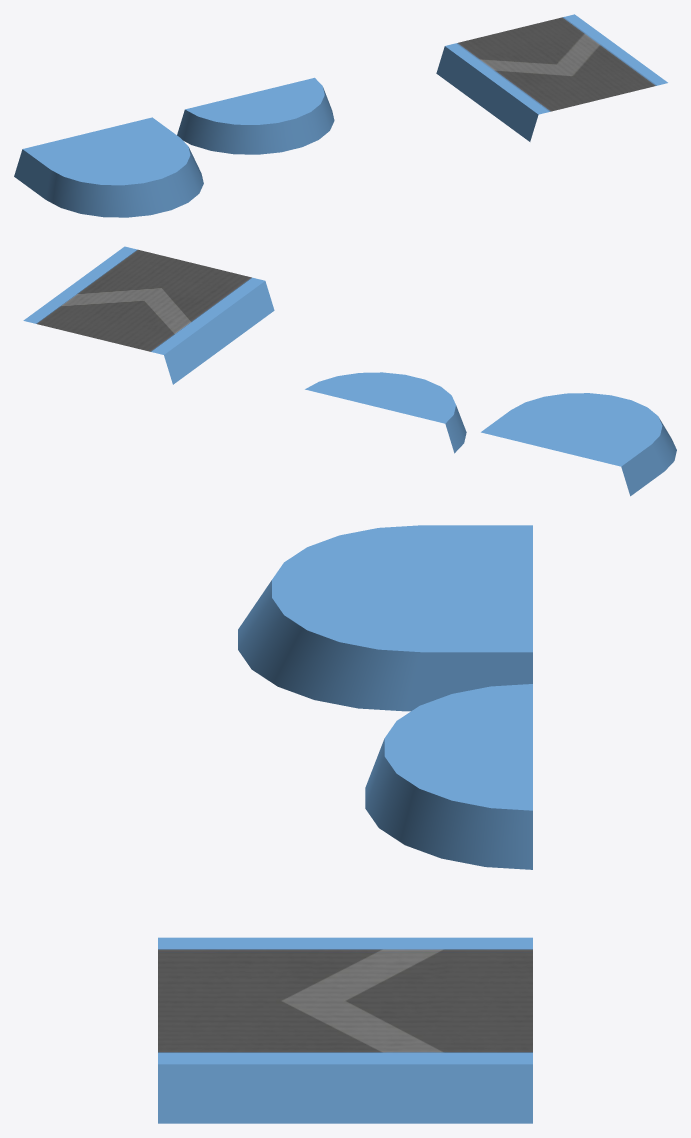
The model's file is belt-mk3.glb.
3 views of the same model, one above another, from view 1: azimuth 30°, elevation 25°; view 2: azimuth 150°, elevation 25°; view 3: azimuth 270°, elevation 25° (orthographic). The views are drawn at different scales.
Parts seen in each view (by area): view 1: segment, head-long, head-short; view 2: segment, head-long, head-short; view 3: segment, head-long, head-short.
Boxes of the visible parts, <box> form: segment: <box>436,14,667,141</box>; head-long: <box>14,117,203,217</box>; head-short: <box>177,77,334,154</box>; segment: <box>23,246,274,384</box>; head-long: <box>481,393,676,496</box>; head-short: <box>305,372,466,453</box>; segment: <box>158,937,532,1123</box>; head-long: <box>238,525,532,711</box>; head-short: <box>365,684,532,869</box>.
Bounding box in the file's own units: 3.5 × 0.15 × 1.
2 materials, 2 textured.
